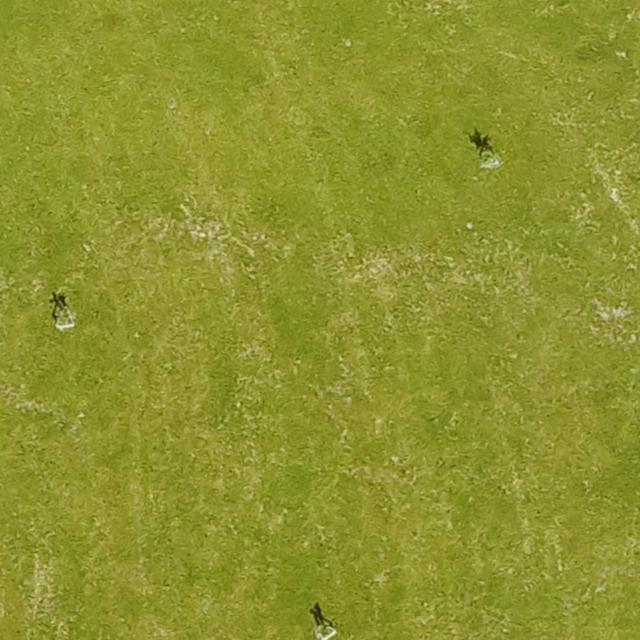tree: (54, 306, 76, 330), (314, 618, 338, 640), (480, 148, 501, 172)
